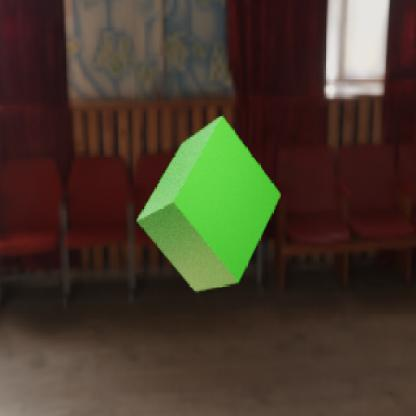cube: (135, 114, 281, 292)
